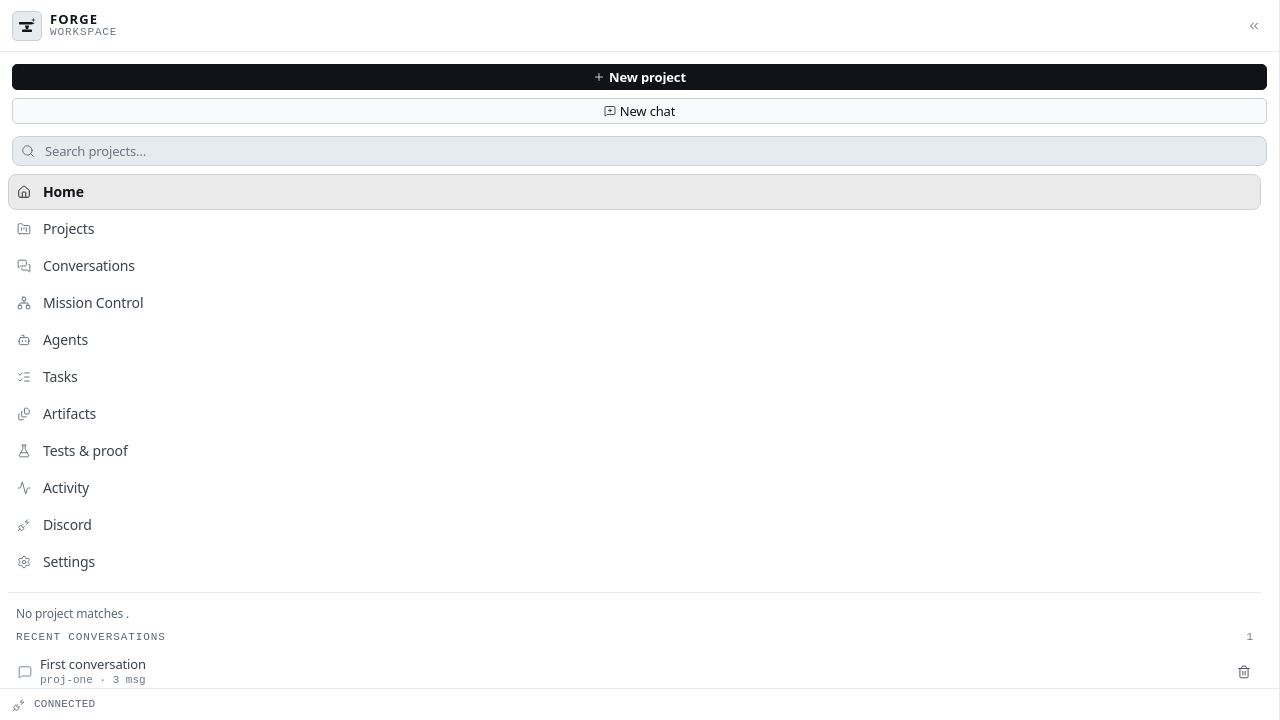
Scenario: Sidebar — "Delete conversation" › confirming sends a real DELETE and hides the row from the list on success (optimistic update)
Click the button named "Delete First conversation" at coordinates (1244, 672), box [1231,659,1257,685]
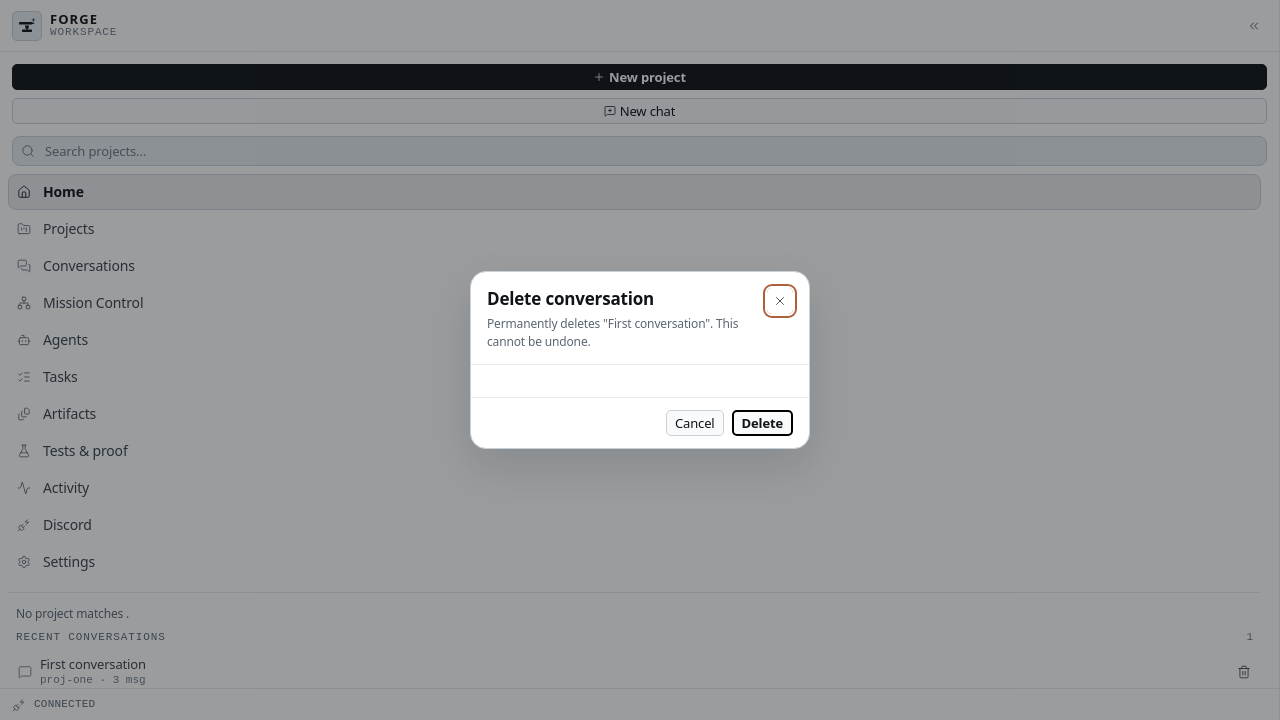
Click the button "Delete" at coordinates (762, 423), box [732,410,793,436]
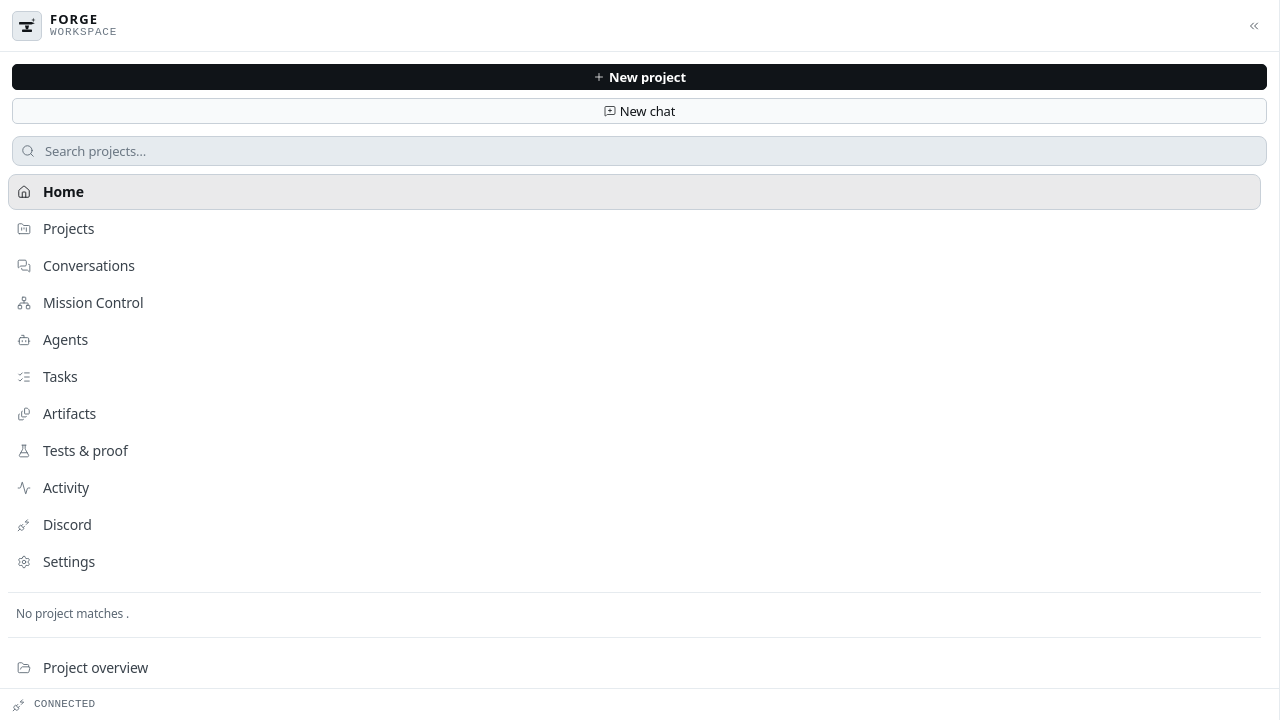
Check: the link "First conversation" is gone
